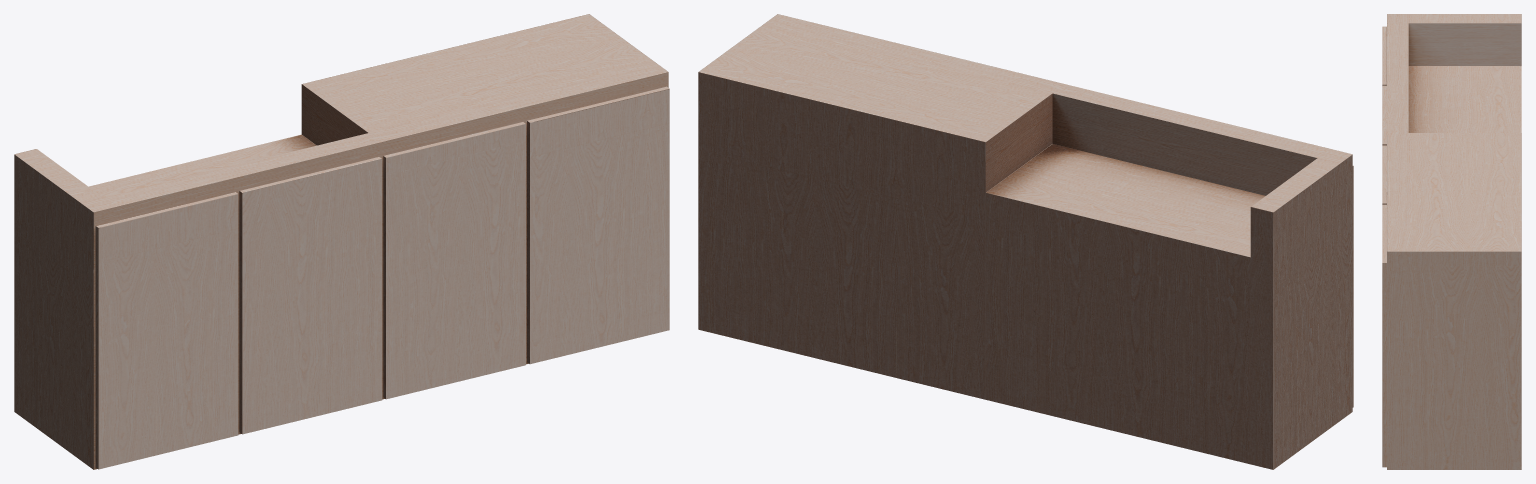
Rendered from CheckoutCounter_CheckoutCounter_2.9x1.2x0.7.glb.
3 views of the same model, side by side, from view 1: azimuth 30°, elevation 25°; view 2: azimuth 150°, elevation 25°; view 3: azimuth 270°, elevation 25° (orthographic). The views are drawn at different scales.
Parts seen in each view (by area): view 1: Checkcounter_Baked; view 2: Checkcounter_Baked; view 3: Checkcounter_Baked.
Boxes of the visible parts, <box> form: Checkcounter_Baked: <box>14,14,669,469</box>; Checkcounter_Baked: <box>698,14,1353,469</box>; Checkcounter_Baked: <box>1382,14,1521,469</box>.
Bounding box in the file's own units: 2.9 × 1.24 × 0.7205.
1 material, 1 textured.
